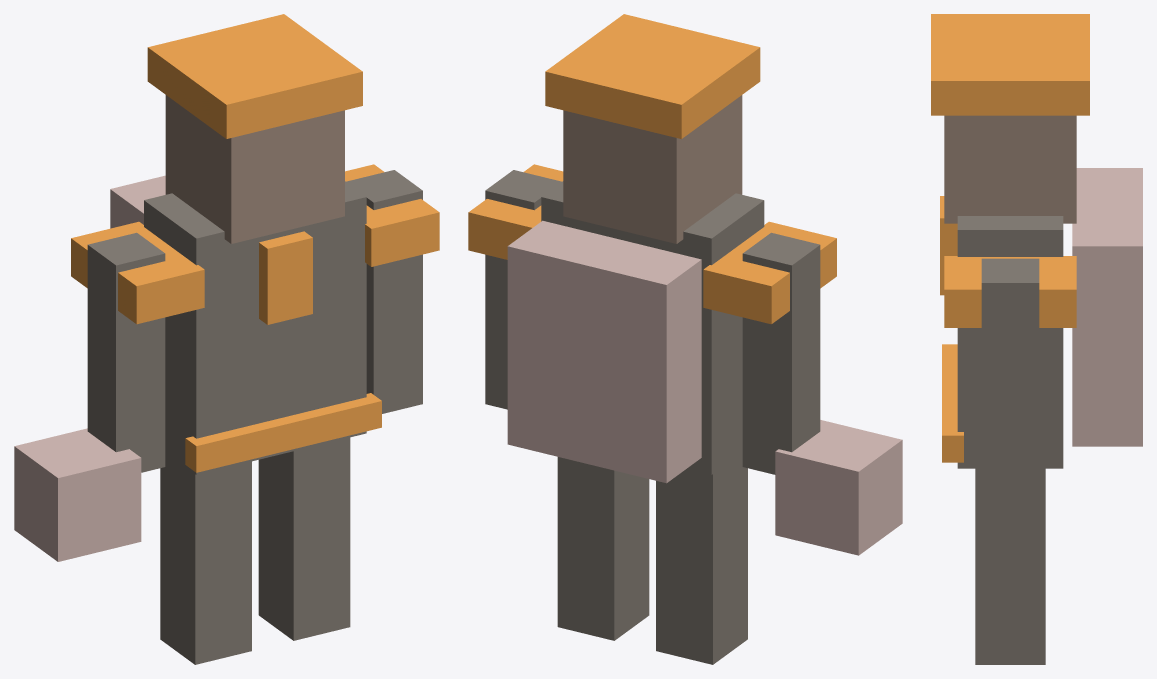
File: 11_maven_voidrill_keeper_near_inferno.glb
3 renders of one model, left to right at view 1: azimuth 30°, elevation 25°; view 2: azimuth 150°, elevation 25°; view 3: azimuth 270°, elevation 25°, orthographic.
Visible parts, largest first — view 1: Maven Voidrill, Keeper near Inferno; view 2: Maven Voidrill, Keeper near Inferno; view 3: Maven Voidrill, Keeper near Inferno.
Part boxes in pixels (bbox=[...]): Maven Voidrill, Keeper near Inferno: bbox=[14, 14, 439, 664]; Maven Voidrill, Keeper near Inferno: bbox=[468, 14, 902, 664]; Maven Voidrill, Keeper near Inferno: bbox=[931, 14, 1142, 664].
Size of the model in its own units: 0.9864 by 1.44 by 0.4758.
